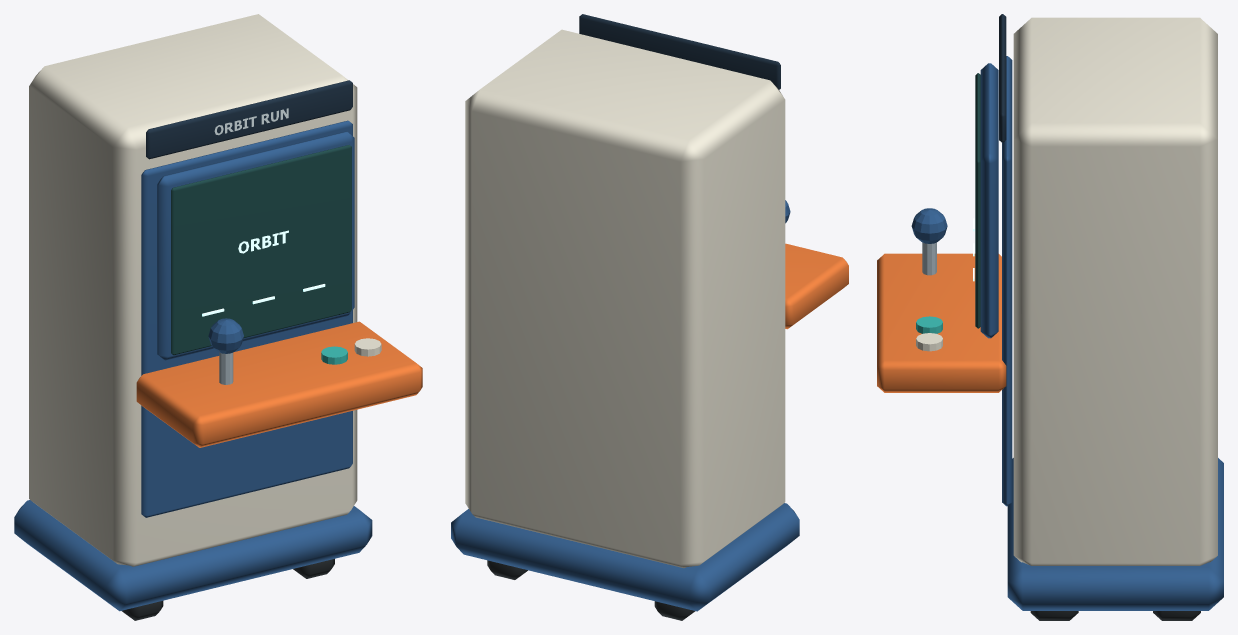
Rendered from Arcade_Cabinet.glb.
The picture shows the model from 3 angles, left to right: view 1: azimuth 30°, elevation 25°; view 2: azimuth 150°, elevation 25°; view 3: azimuth 270°, elevation 25°; orthographic projection. The views are drawn at different scales.
Parts seen in each view (by area): view 1: Arcade_Cabinet; view 2: Arcade_Cabinet; view 3: Arcade_Cabinet.
Boxes of the visible parts, x1,y1,x2,y2 form: Arcade_Cabinet: (14,14,422,620); Arcade_Cabinet: (451,14,848,620); Arcade_Cabinet: (877,14,1223,620).
Size of the model in its own units: 1.03 by 1.88 by 1.15.
